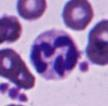N: (30, 28, 81, 82)
